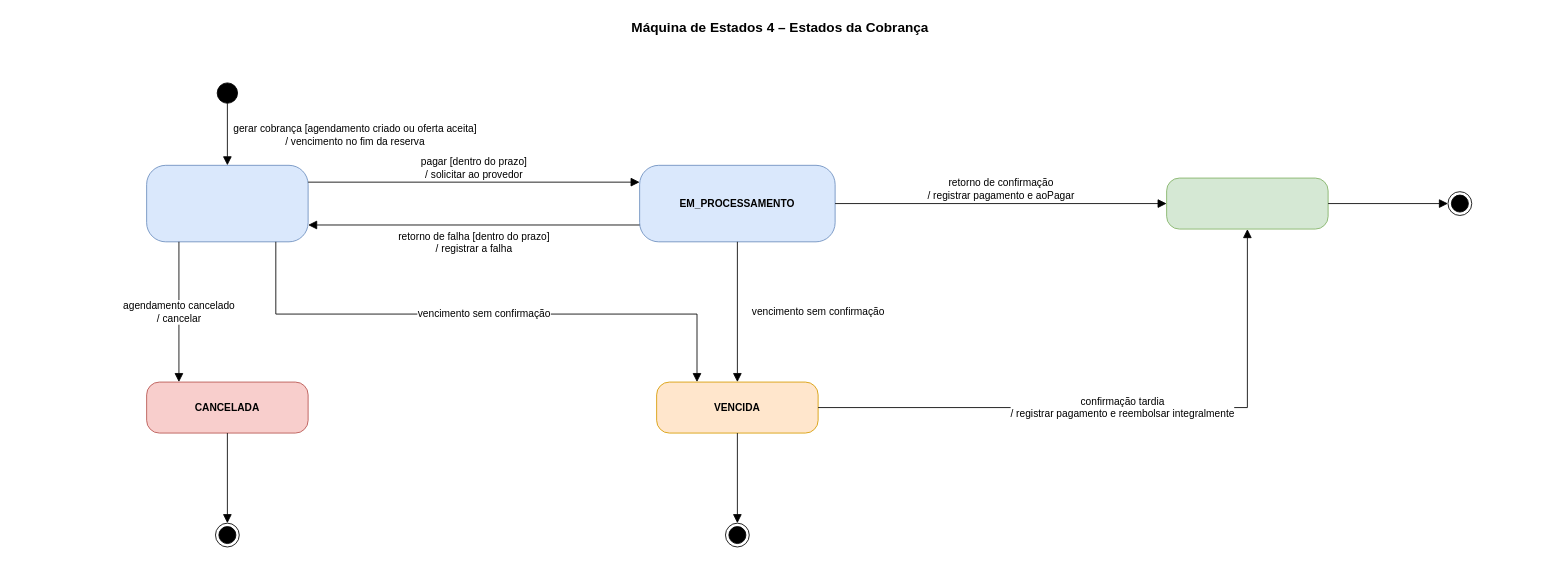
Some shapes in this 1559 by 562 pixel diagram are drawn without their labels. Here are the shapes that lost their labels. From the top down, the centre of each, then its label:
(227,203): PENDENTE
(1247,203): PAGA
